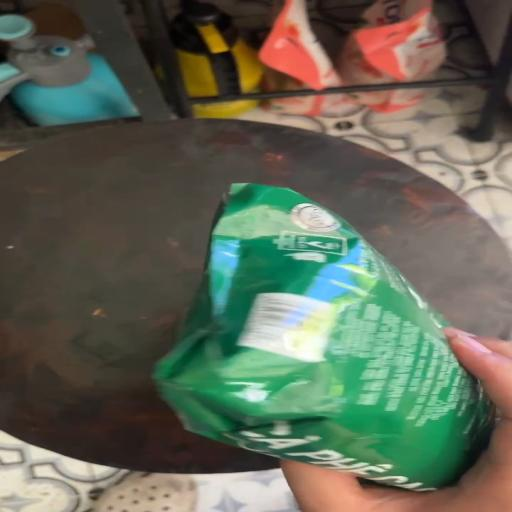cafe_xay: (154, 183, 494, 492)
